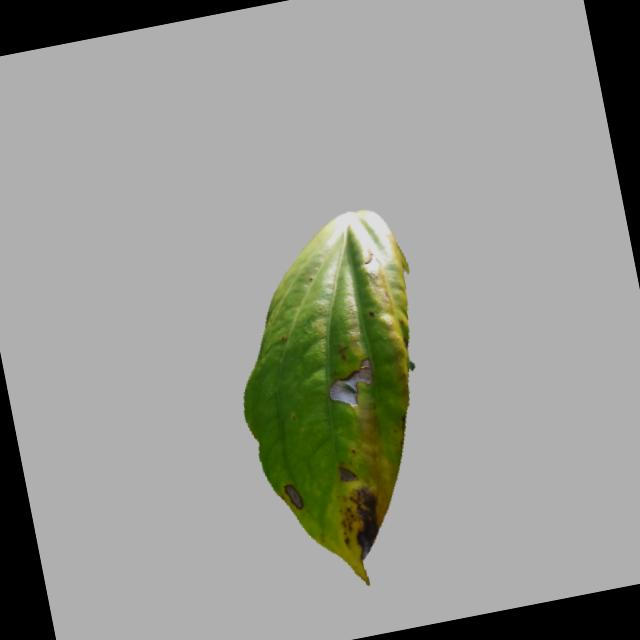yellow-mottle-virus: (206, 186, 508, 603)
